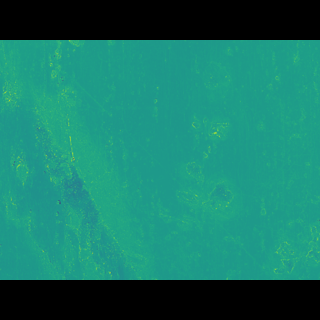Loch: (0, 72, 143, 248), (181, 125, 233, 201), (194, 84, 234, 106)
